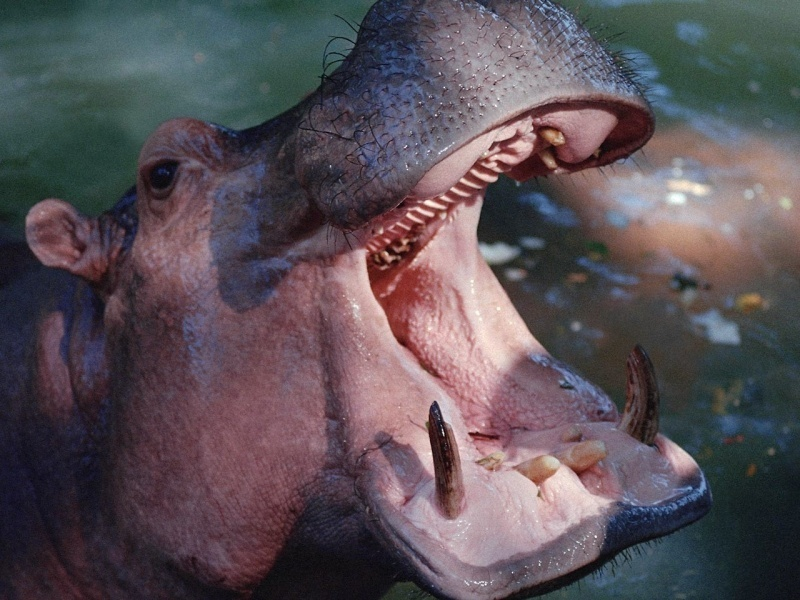hipopotamo: (2, 0, 715, 593)
